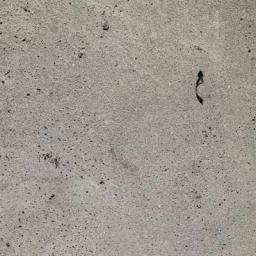FOD: (192, 69, 210, 108)
